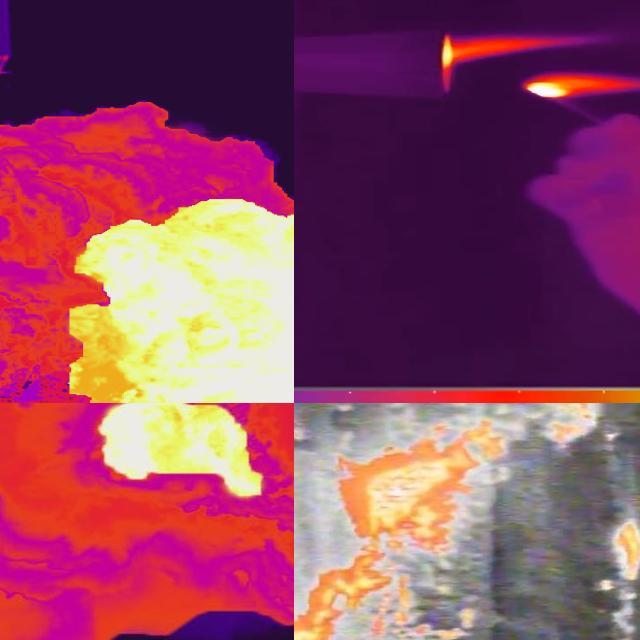fire: (68, 200, 295, 404), (332, 404, 605, 555), (295, 555, 487, 640), (99, 404, 267, 499), (609, 520, 640, 581), (518, 73, 577, 102), (439, 33, 477, 77)
